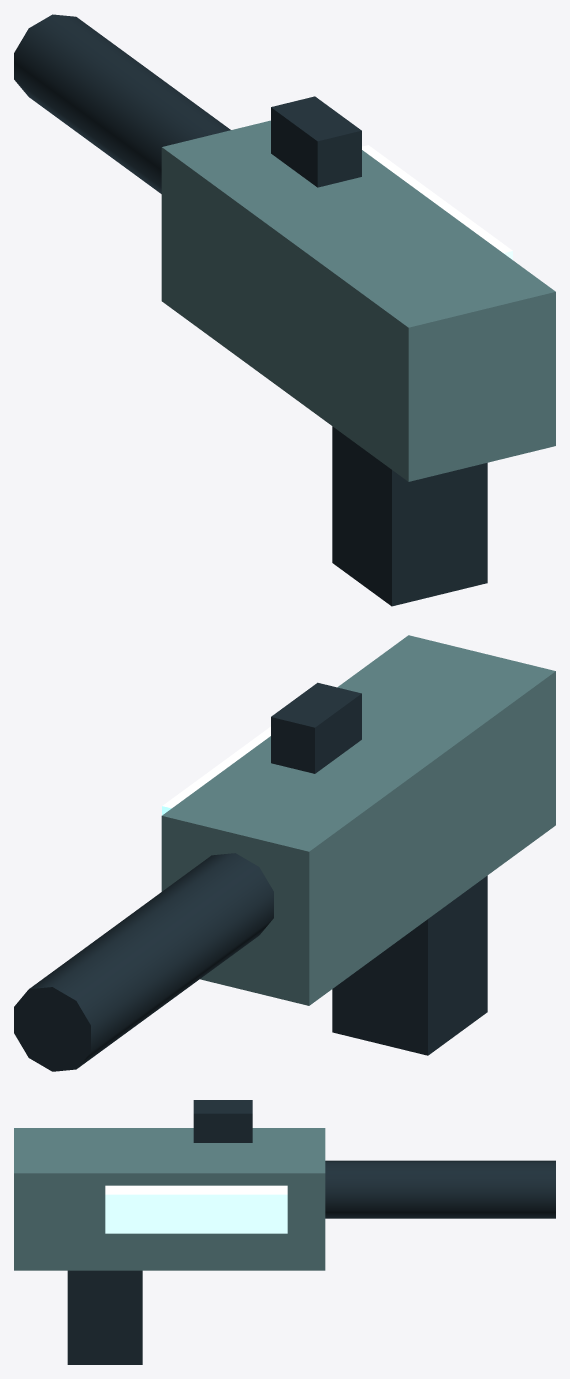
File: pulse-carbine.glb
3 renders of one model, top to bottom at view 1: azimuth 30°, elevation 25°; view 2: azimuth 150°, elevation 25°; view 3: azimuth 270°, elevation 25°, orthographic. The views are drawn at different scales.
Visible parts, largest first — view 1: Salvage pulse carbine; view 2: Salvage pulse carbine; view 3: Salvage pulse carbine.
Boxes of the visible parts, x1,y1,x2,y2 form: Salvage pulse carbine: [14, 14, 555, 606]; Salvage pulse carbine: [14, 635, 555, 1071]; Salvage pulse carbine: [14, 1100, 555, 1364].
Size of the model in its own units: 0.24 by 0.5 by 1.01.
